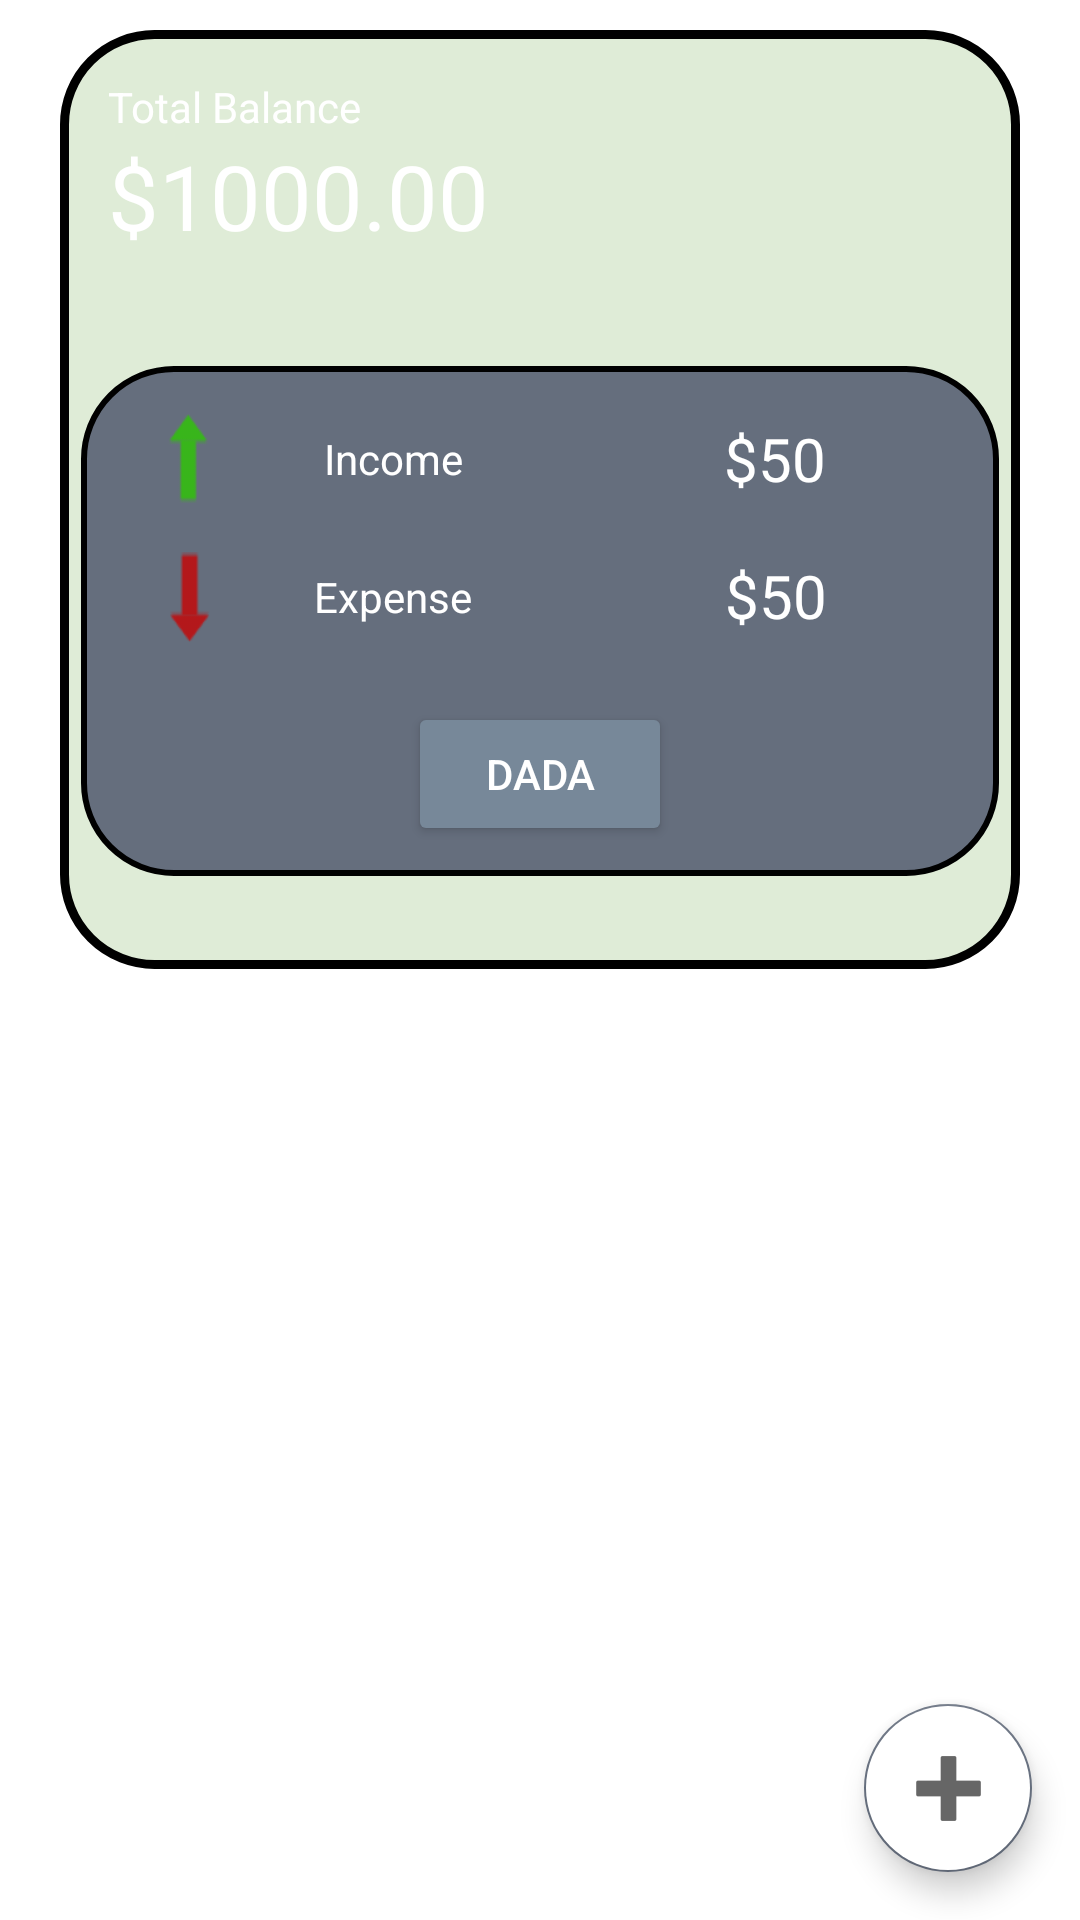

Where to tap for icons on this 1080px x 1920px app screen, as (x,y):
floating plus sign: (948,1788)
